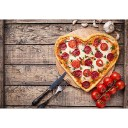pepperonipizza: (56, 35, 119, 91)
